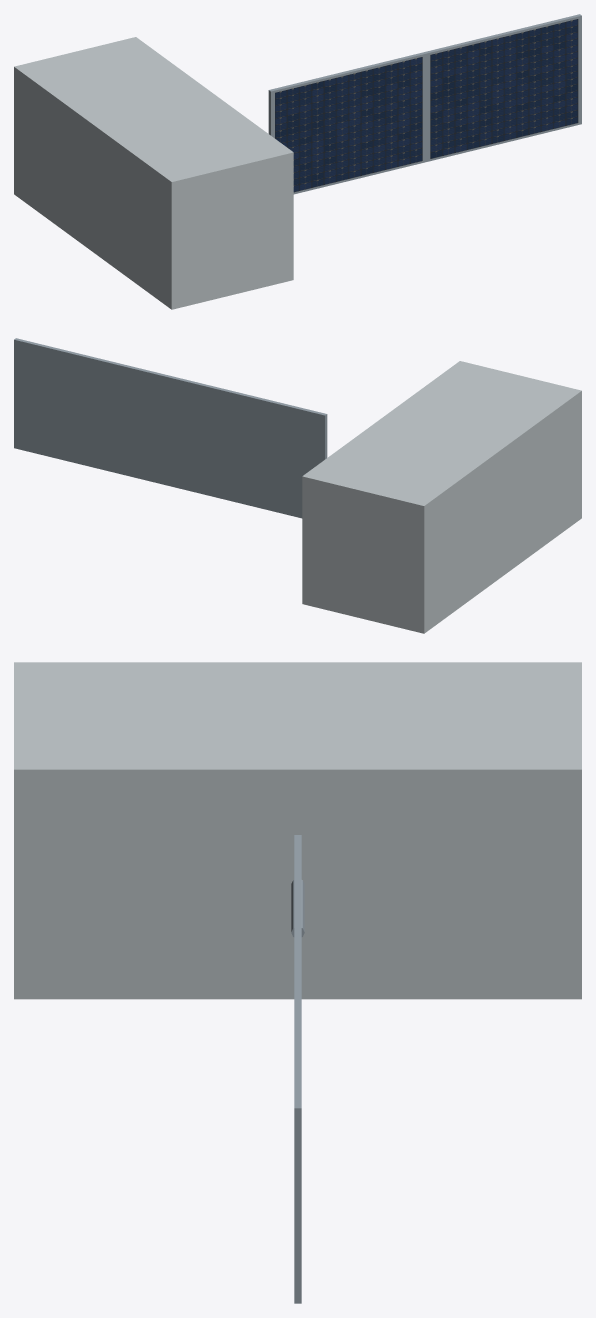
The model's file is ref-spot-16613.glb.
3 renders of one model, top to bottom at view 1: azimuth 30°, elevation 25°; view 2: azimuth 150°, elevation 25°; view 3: azimuth 270°, elevation 25°, orthographic. The views are drawn at different scales.
Visible parts, largest first — view 1: Spacecraft body, Photovoltaic laminates (×2), Array frame (×2); view 2: Spacecraft body, Array frame (×2); view 3: Spacecraft body, Array frame (×2).
Part boxes in pixels (left/top/right/bottom): Spacecraft body: left=14, top=37, right=293, bottom=309; Photovoltaic laminates (×2): left=275, top=19, right=578, bottom=192; Array frame (×2): left=268, top=14, right=581, bottom=194; Spacecraft body: left=302, top=361, right=581, bottom=633; Array frame (×2): left=14, top=338, right=327, bottom=518; Spacecraft body: left=14, top=662, right=581, bottom=999; Array frame (×2): left=294, top=835, right=301, bottom=1303.
Size of the model in its own units: 10 by 2.5 by 5.6.
Materials: 3 (1 with a texture image).
